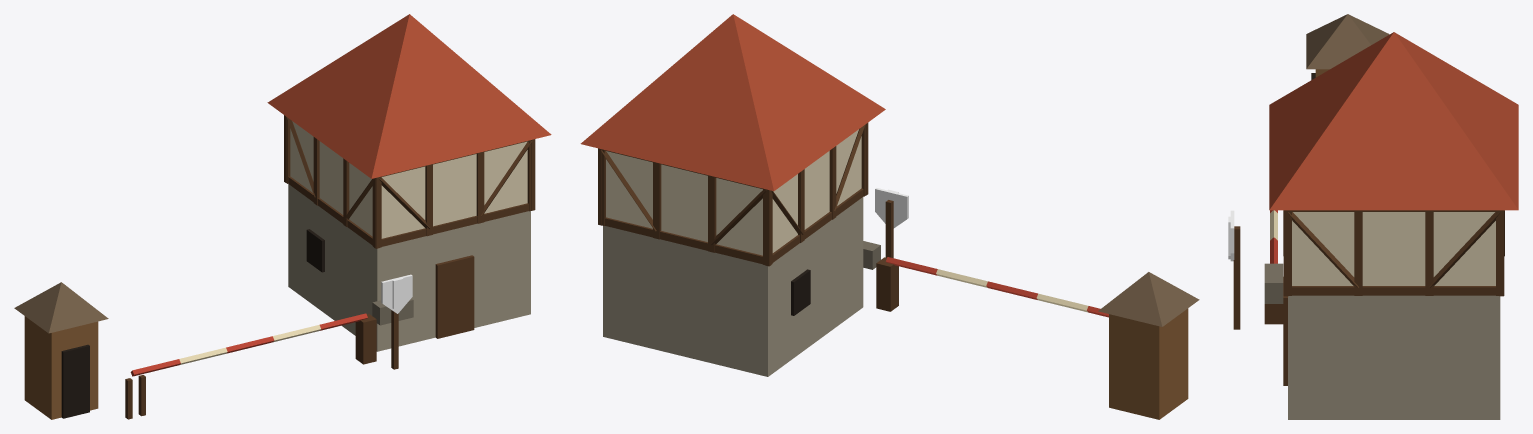
The model's file is building_toll.glb.
3 views of the same model, side by side, from view 1: azimuth 30°, elevation 25°; view 2: azimuth 150°, elevation 25°; view 3: azimuth 270°, elevation 25° (orthographic). The views are drawn at different scales.
Parts seen in each view (by area): view 1: building_toll; view 2: building_toll; view 3: building_toll.
Boxes of the visible parts, x1,y1,x2,y2 form: building_toll: (14,14,551,419); building_toll: (580,14,1199,419); building_toll: (1228,14,1518,419).
Size of the model in its own units: 14.6 by 8.2 by 6.29.
